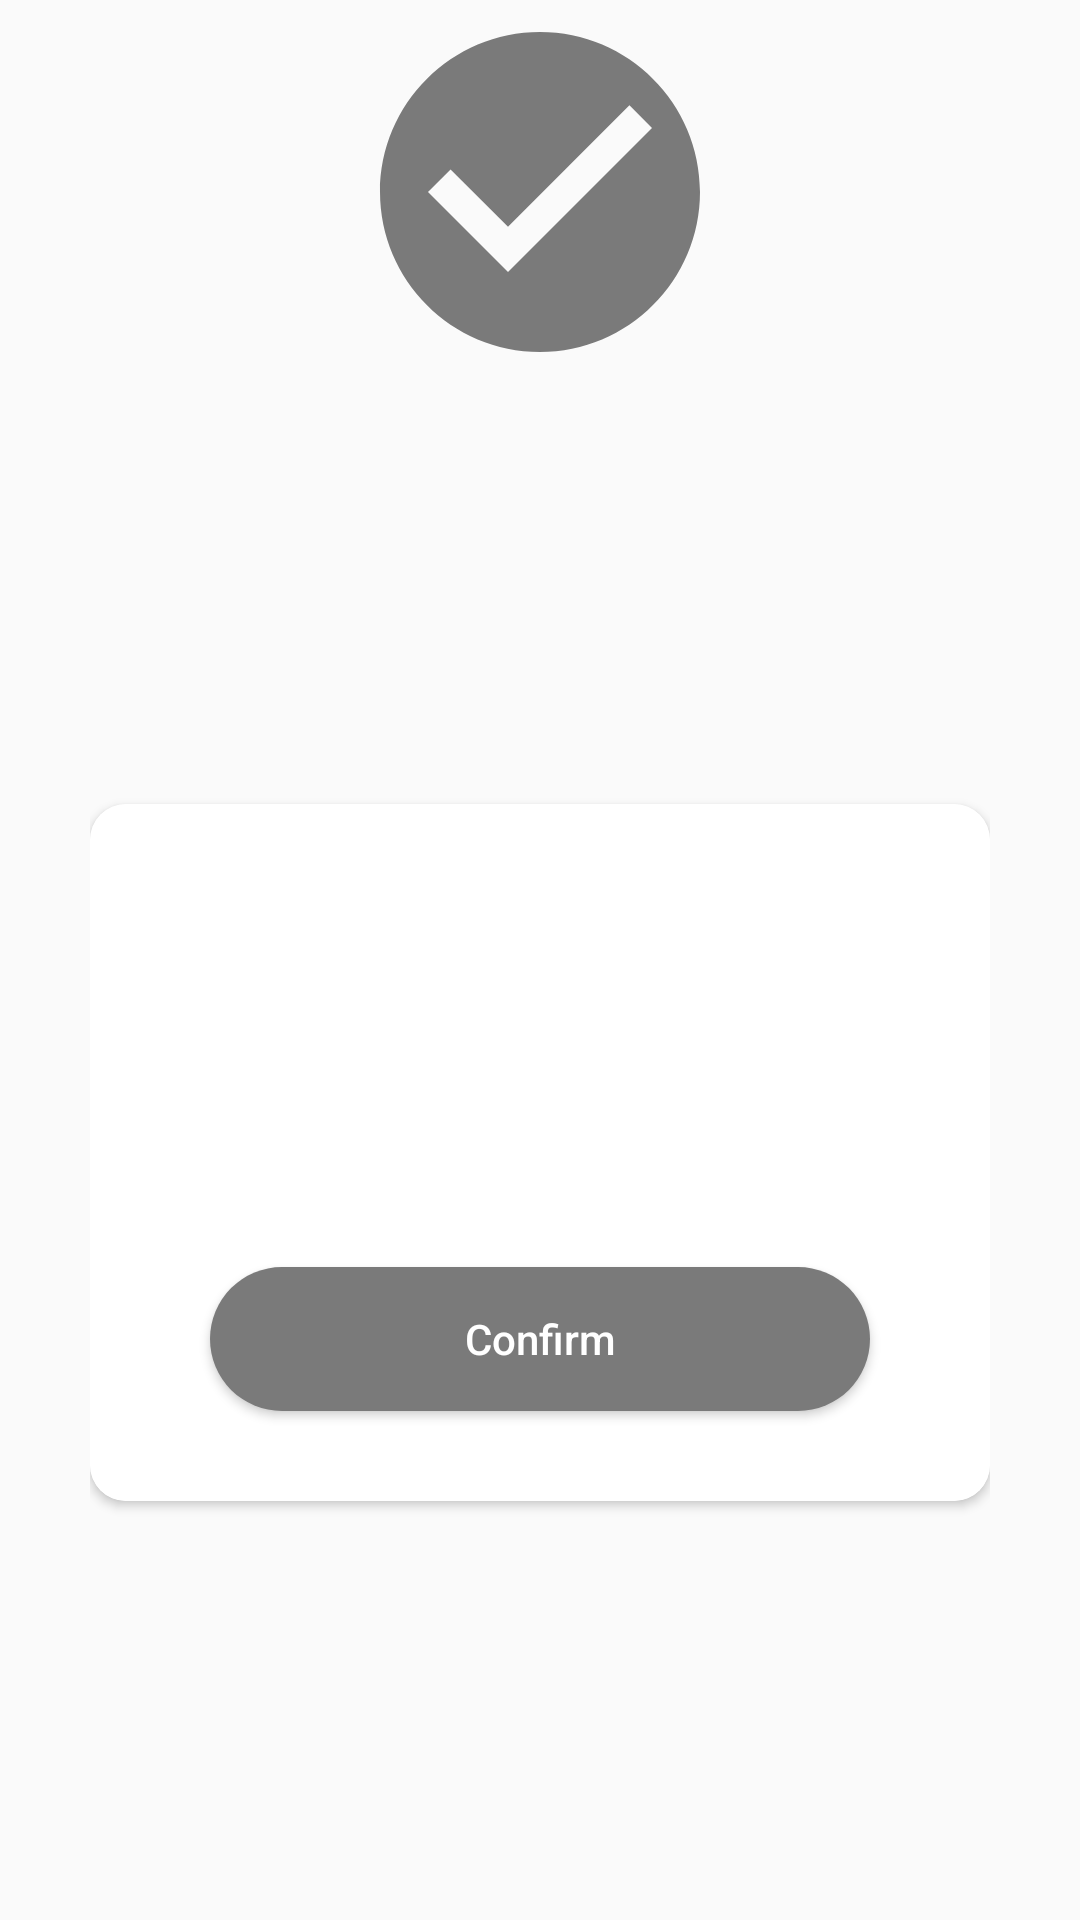

Icon bounding boxes for this 1080px x 1920px phone screenshot, format (x1, y1, x2, y2):
success: (380, 32, 700, 352)
